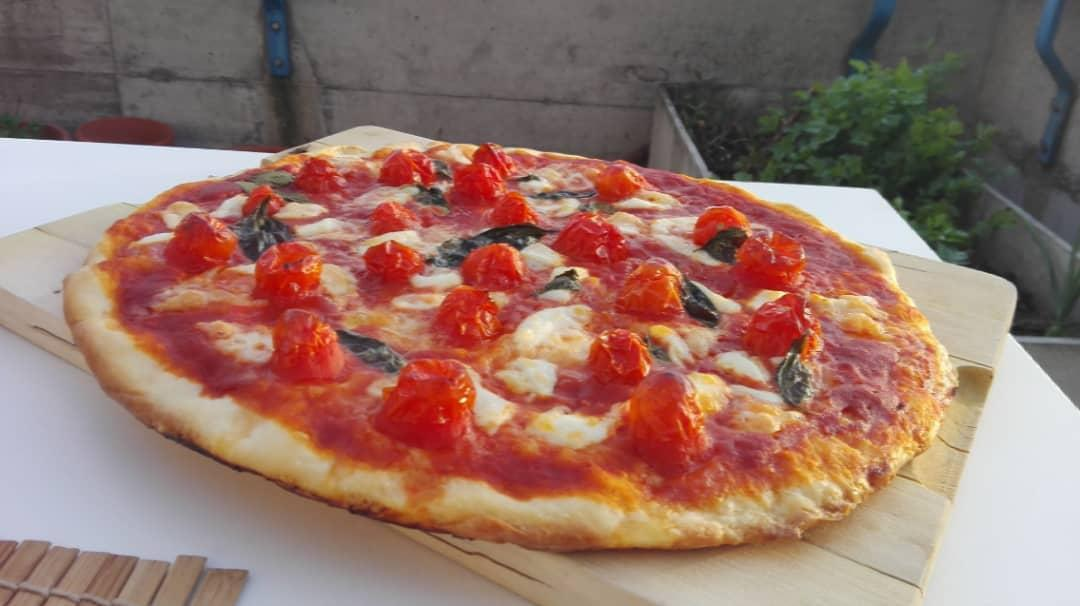Basil: (333, 318, 402, 369), (448, 223, 555, 252), (774, 328, 815, 402), (234, 197, 286, 254), (671, 266, 716, 327), (697, 226, 750, 262), (260, 168, 302, 206), (409, 186, 452, 213), (425, 158, 458, 185), (535, 186, 595, 200), (543, 269, 582, 290), (509, 171, 541, 184)
Cheese: (708, 377, 766, 424), (649, 317, 714, 358), (536, 407, 613, 441), (526, 306, 578, 348), (506, 351, 544, 390), (658, 214, 695, 251), (469, 388, 502, 425), (299, 215, 345, 235), (611, 213, 640, 233), (537, 199, 574, 214)
Pizza: (68, 141, 956, 548)
Tomatoes: (375, 359, 466, 435), (269, 310, 343, 382), (627, 376, 695, 454), (743, 294, 815, 348), (254, 241, 320, 297), (733, 231, 799, 282), (167, 215, 233, 265), (615, 261, 679, 309), (437, 290, 495, 341), (448, 143, 503, 196), (559, 213, 621, 259), (585, 328, 644, 375), (464, 247, 518, 288), (364, 243, 415, 279), (380, 149, 433, 183), (697, 204, 744, 238), (598, 166, 643, 199), (244, 183, 282, 215), (301, 160, 341, 190), (370, 200, 406, 231), (494, 191, 526, 223)
